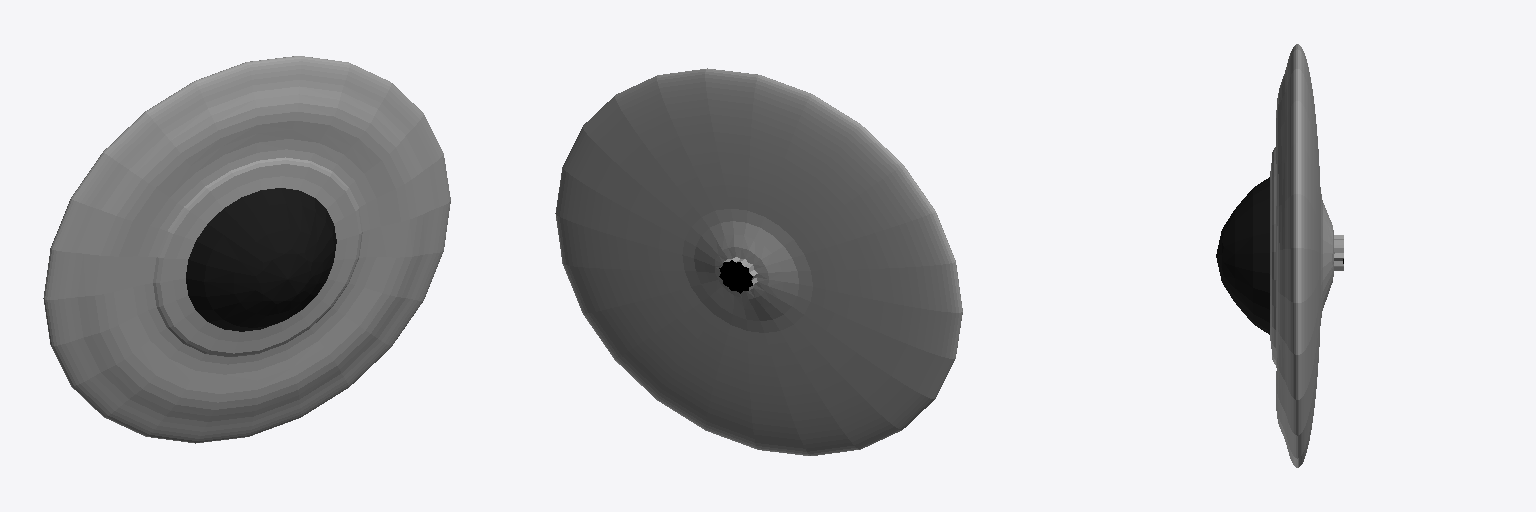
Rendered from ufo.obj.
The picture shows the model from 3 angles: view 1: azimuth 30°, elevation 25°; view 2: azimuth 150°, elevation 25°; view 3: azimuth 270°, elevation 25°; orthographic projection.
Bounding box in the file's own units: 12.07 × 10.63 × 3.29.